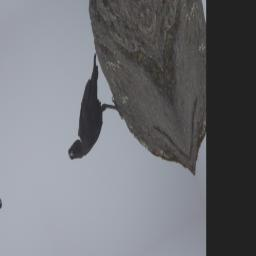Crow: (47, 48, 126, 167)
